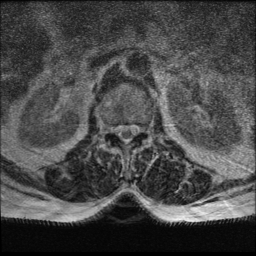CCS_normal: (121, 116, 130, 151)
LFS_normal: (139, 115, 148, 141)
LLS_normal: (130, 115, 139, 144)
RFS_normal: (104, 113, 113, 141)
RLS_normal: (113, 115, 121, 144)
